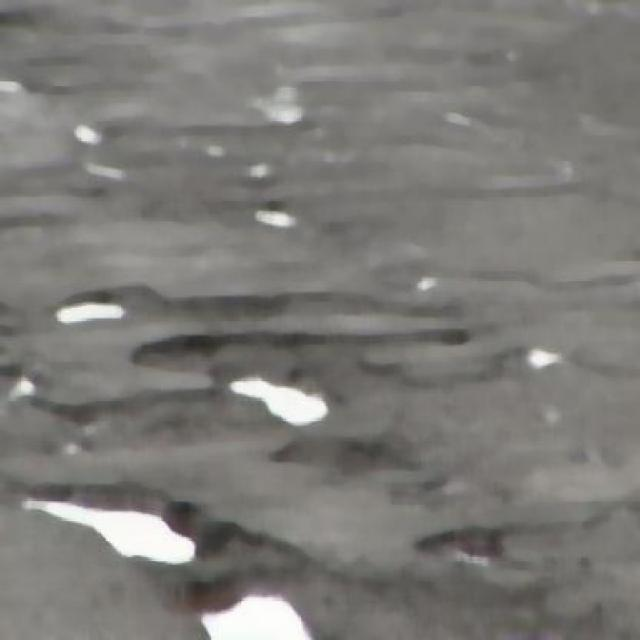Pothole: (24, 468, 191, 570), (220, 350, 325, 441), (195, 580, 322, 638), (49, 290, 138, 339)
